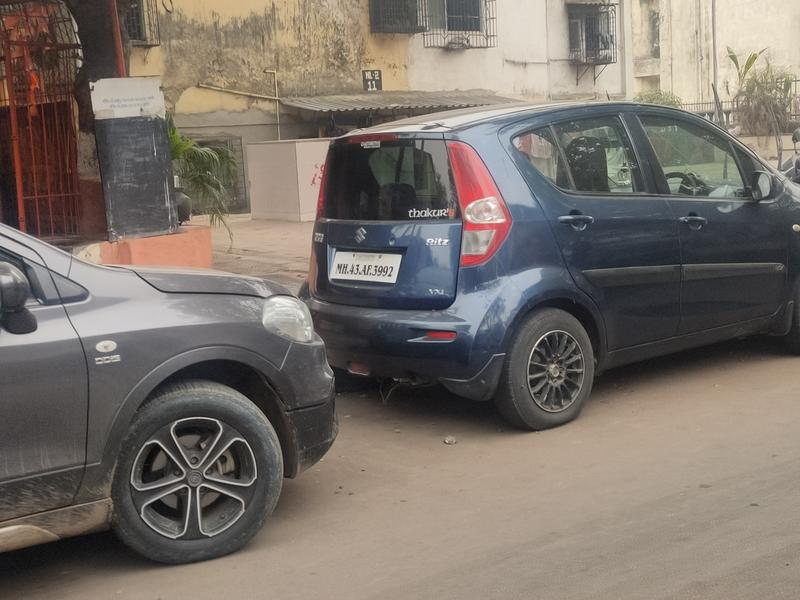license_plate: (324, 245, 408, 299)
